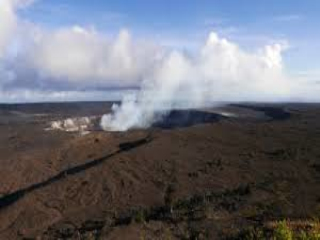smoke: (101, 50, 189, 131)
